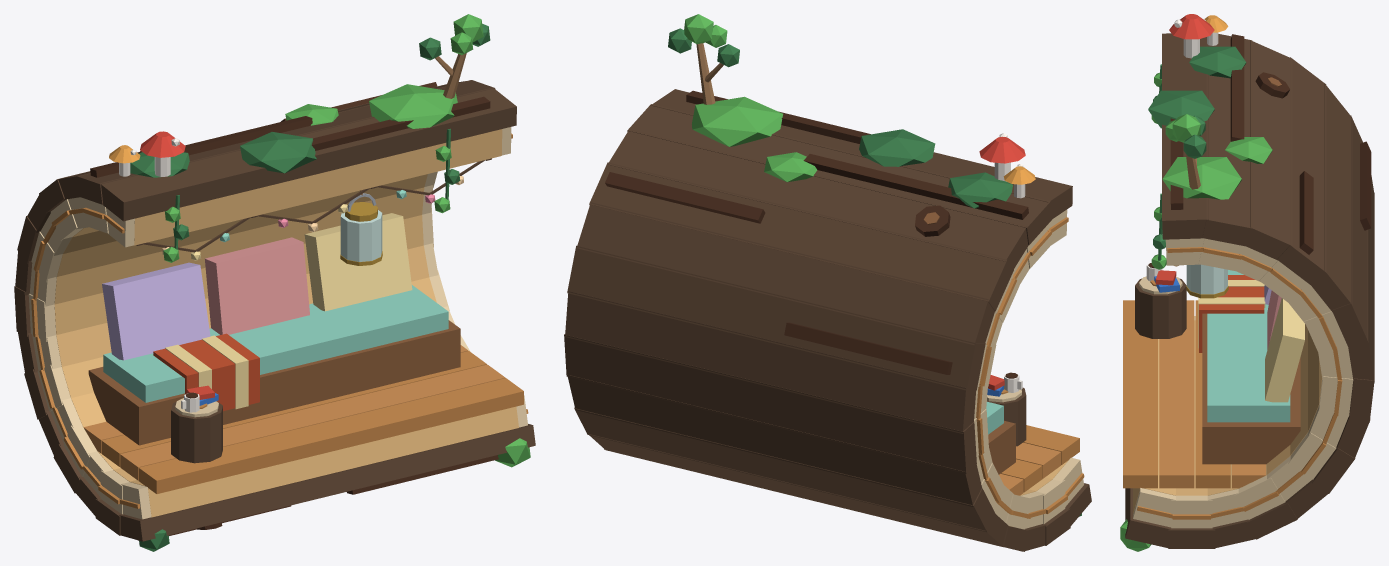
The model's file is CatCafe_Decor_HollowLogBooth.fbx.
The picture shows the model from 3 angles, left to right: view 1: azimuth 30°, elevation 25°; view 2: azimuth 150°, elevation 25°; view 3: azimuth 270°, elevation 25°; orthographic projection. The views are drawn at different scales.
Parts seen in each view (by area): view 1: CatCafe_Decor_HollowLogBooth, CatCafe_Decor_HollowLogBooth_Lantern_Swing, CatCafe_Decor_HollowLogBooth_Lights_Glow; view 2: CatCafe_Decor_HollowLogBooth; view 3: CatCafe_Decor_HollowLogBooth, CatCafe_Decor_HollowLogBooth_Lantern_Swing.
Part boxes in pixels (x1=…): CatCafe_Decor_HollowLogBooth: x1=14, y1=14, x2=535, y2=551; CatCafe_Decor_HollowLogBooth_Lantern_Swing: x1=340, y1=190, x2=382, y2=265; CatCafe_Decor_HollowLogBooth_Lights_Glow: x1=162, y1=176, x2=463, y2=260; CatCafe_Decor_HollowLogBooth: x1=564, y1=14, x2=1091, y2=551; CatCafe_Decor_HollowLogBooth: x1=1120, y1=14, x2=1374, y2=551; CatCafe_Decor_HollowLogBooth_Lantern_Swing: x1=1186, y1=264, x2=1228, y2=298.
Bounding box in the file's own units: 4.3 × 4.57 × 2.45.
1 material, 1 textured.
